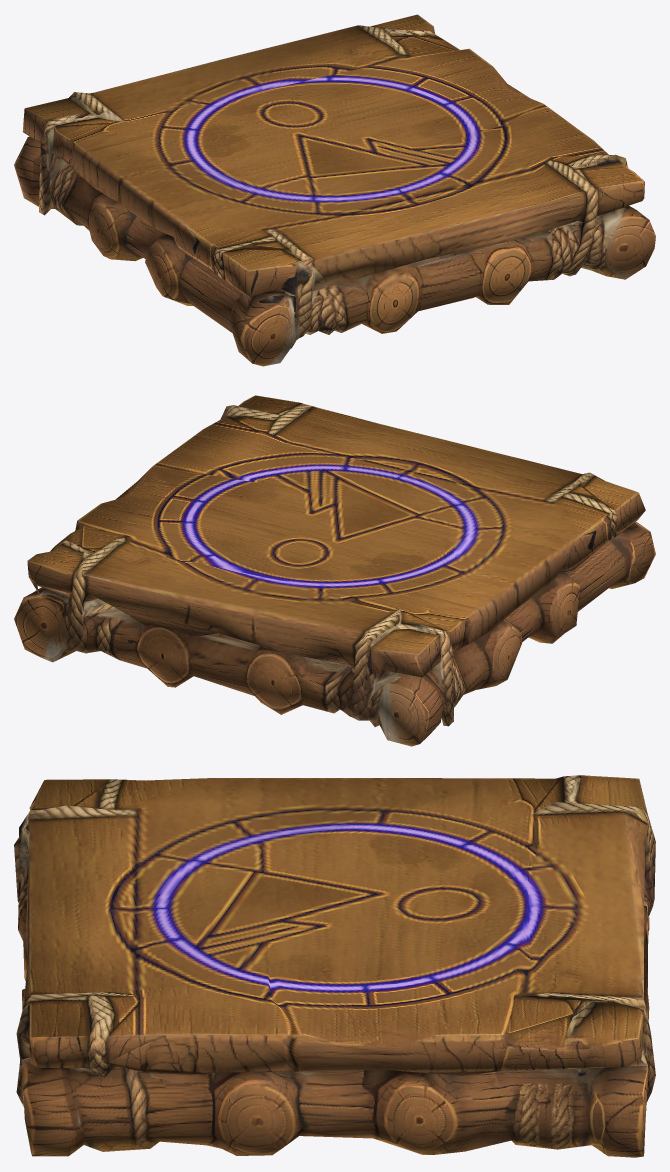
Rendered from raft_v2.glb.
3 views of the same model, one above another, from view 1: azimuth 30°, elevation 25°; view 2: azimuth 150°, elevation 25°; view 3: azimuth 270°, elevation 25° (orthographic). The views are drawn at different scales.
Size of the model in its own units: 1.92 by 0.4584 by 1.91.
1 material, 1 textured.
